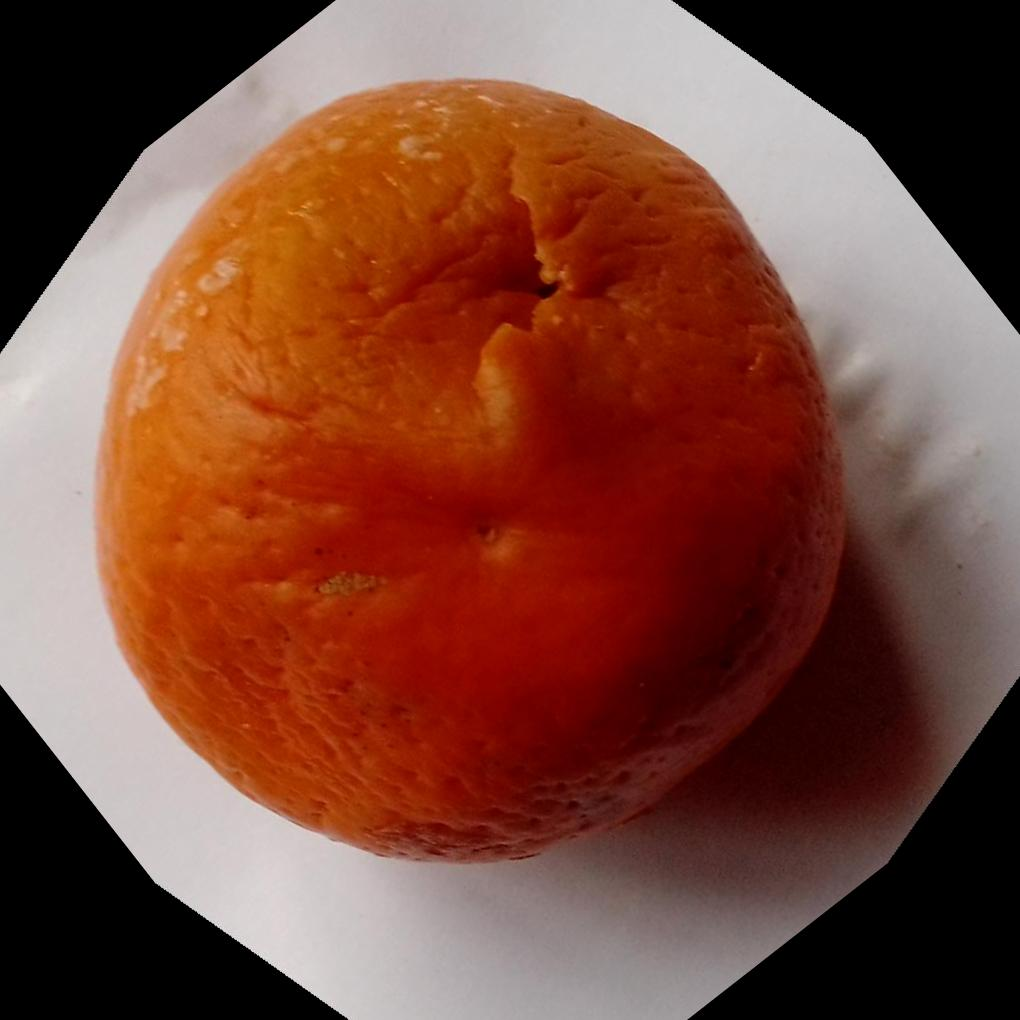FreshOrange: (84, 76, 847, 866)
